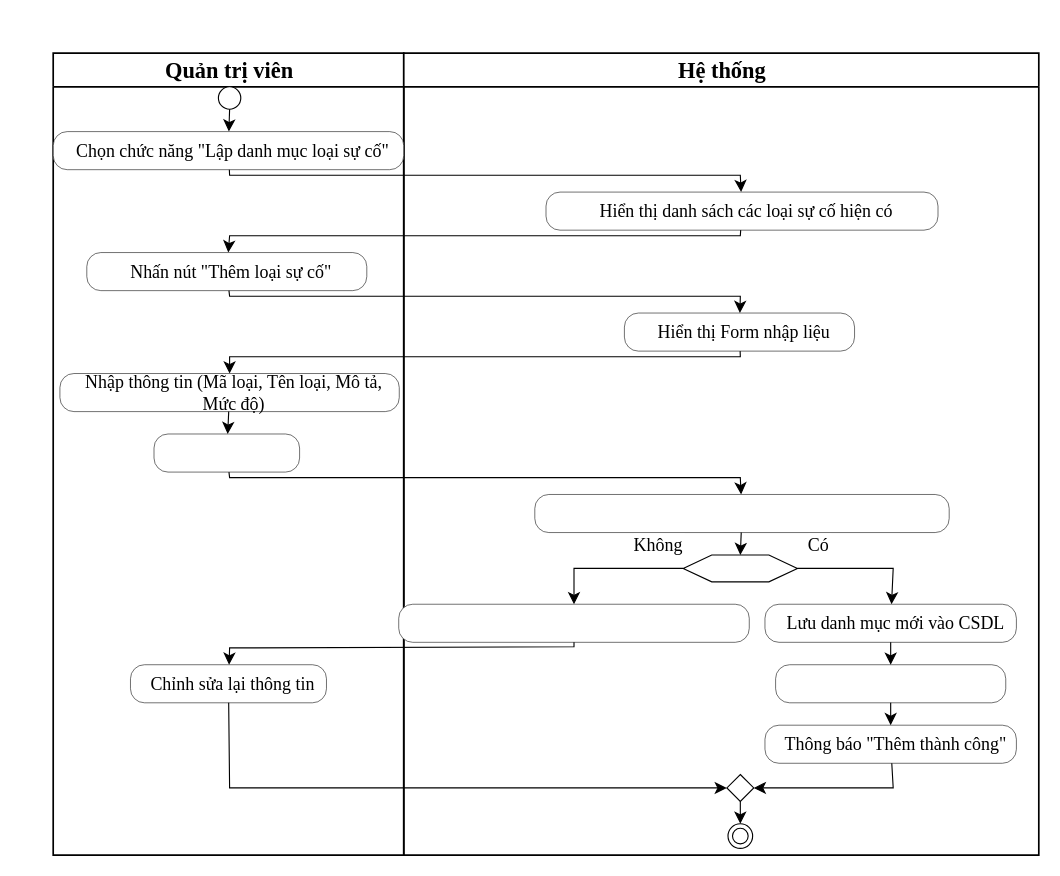
The diagram is 1060 pixels wide and 876 high, and some of its shapes have lost their labels. The centre of each missing label's shape, as x and y in pixels:
Cảnh báo lỗi (trùng lặp hoặc thiếu thông tin): (x=573, y=622)
Cập nhật danh sách hiển thị: (x=890, y=683)
Dữ liệu hợp lệ?: (x=739, y=568)
Kiểm tra tính hợp lệ và trùng lặp tên loại: (x=741, y=513)
Nhấn "Lưu lại": (x=226, y=452)
